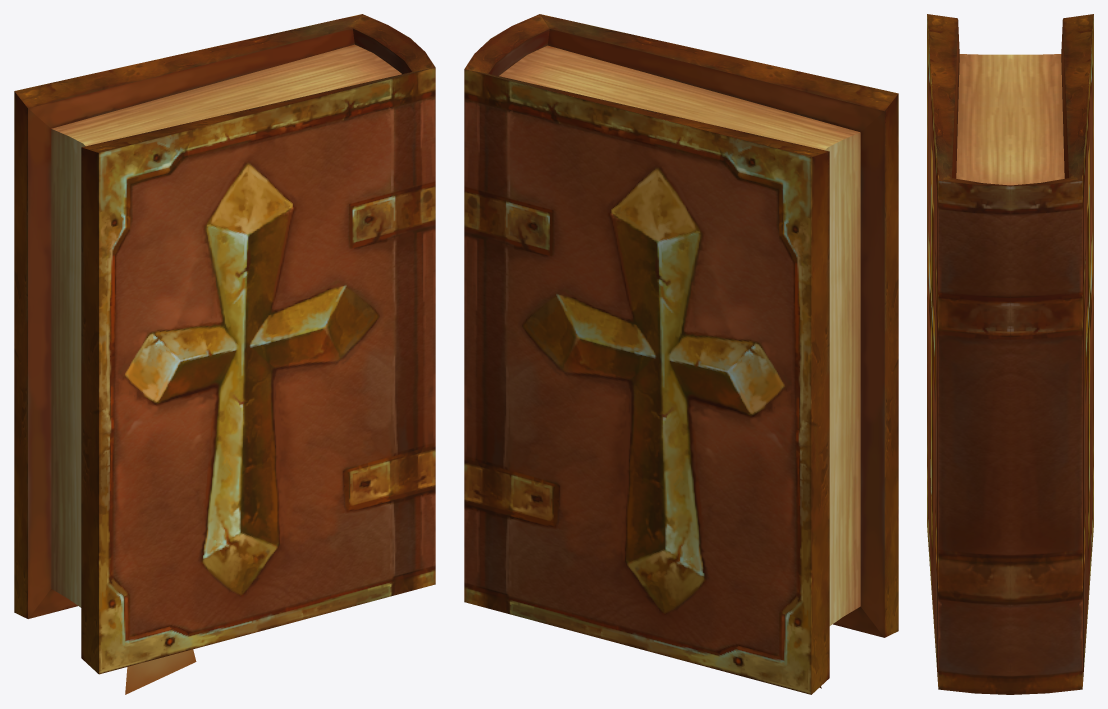
The model's file is MagicBook_01_Low.FBX.
The picture shows the model from 3 angles, left to right: view 1: azimuth 30°, elevation 25°; view 2: azimuth 150°, elevation 25°; view 3: azimuth 270°, elevation 25°; orthographic projection. The views are drawn at different scales.
Parts seen in each view (by area): view 1: MagicBook01_Low; view 2: MagicBook01_Low; view 3: MagicBook01_Low.
Part boxes in pixels (left/top/right/bottom): MagicBook01_Low: left=14, top=14, right=435, bottom=694; MagicBook01_Low: left=464, top=14, right=898, bottom=694; MagicBook01_Low: left=927, top=14, right=1093, bottom=694.
Bounding box in the file's own units: 21.42 × 32.9 × 8.83.
